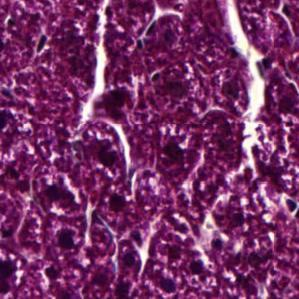inflammation: (39, 171, 83, 218), (156, 241, 185, 268)
